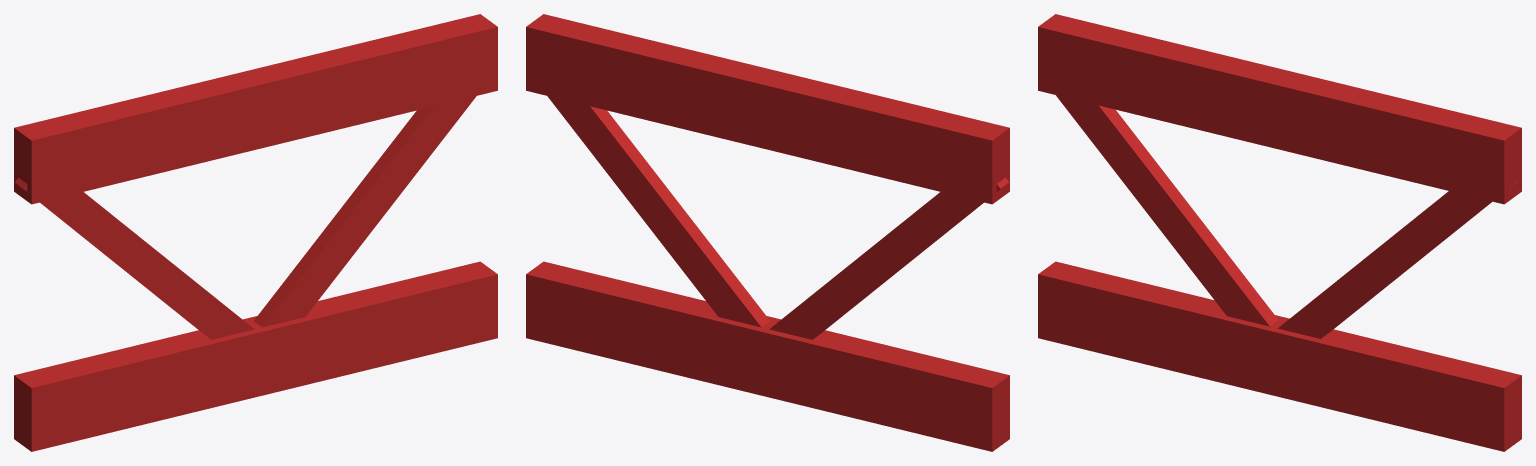
Rendered from last_redlane.fbx.
The picture shows the model from 3 angles, left to right: view 1: azimuth 30°, elevation 25°; view 2: azimuth 150°, elevation 25°; view 3: azimuth 330°, elevation 25°; orthographic projection.
Visible parts, largest first — view 1: stick.001, stickreen, stick.003, stick.002; view 2: stick.001, stickreen, stick.003, stick.002; view 3: stick.001, stickreen, stick.002, stick.003.
Boxes of the visible parts, x1,y1,x2,y2 form: stick.001: (14,14,497,204); stickreen: (14,261,497,451); stick.003: (254,96,476,327); stick.002: (14,178,254,339); stick.001: (526,14,1009,204); stickreen: (526,261,1009,451); stick.003: (547,96,769,327); stick.002: (769,178,1009,339); stick.001: (1038,14,1521,204); stickreen: (1038,261,1521,451); stick.002: (1056,95,1278,326); stick.003: (1278,181,1517,338).
Size of the model in its own units: 617 by 390 by 40.
